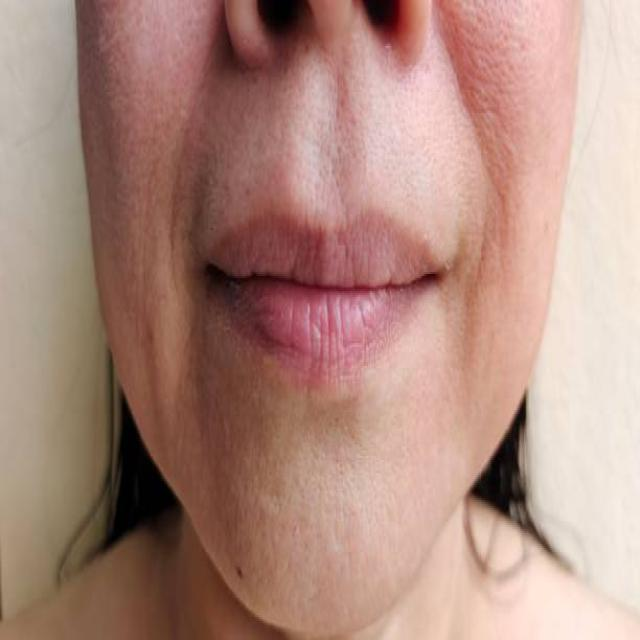Dry-Skin: (458, 13, 574, 383), (218, 417, 436, 613)
